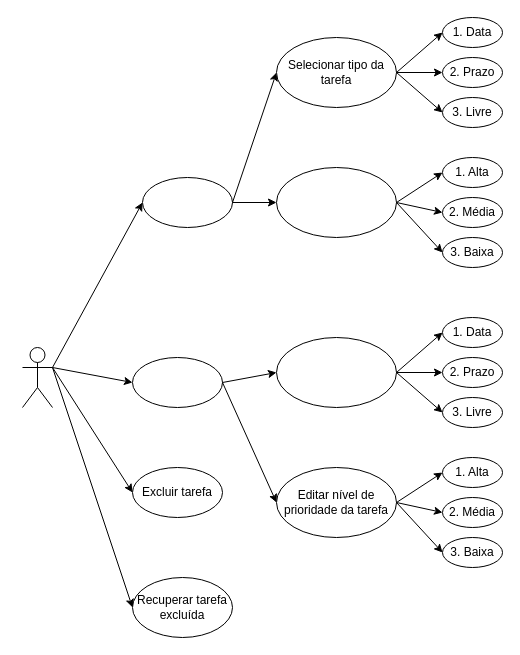
Image size: 520x655. Some labels were removed from this diagram. Each missing label, with the centre of its shape:
"Adicionar nova tarefa" goes at point 187,202.
"Editar tarefa" goes at point 177,382.
"Editar tipo da tarefa" goes at point 336,372.
"Selecionar nível de prioridade da tarefa" goes at point 336,202.
"Usuário" goes at point 37,377.
